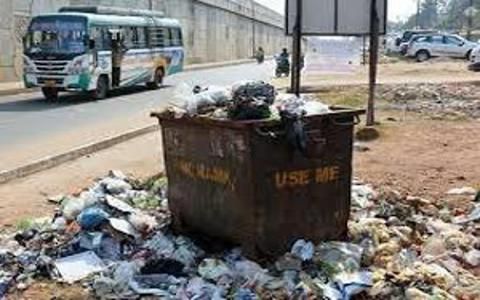overflowing garbage: (123, 86, 368, 297)
